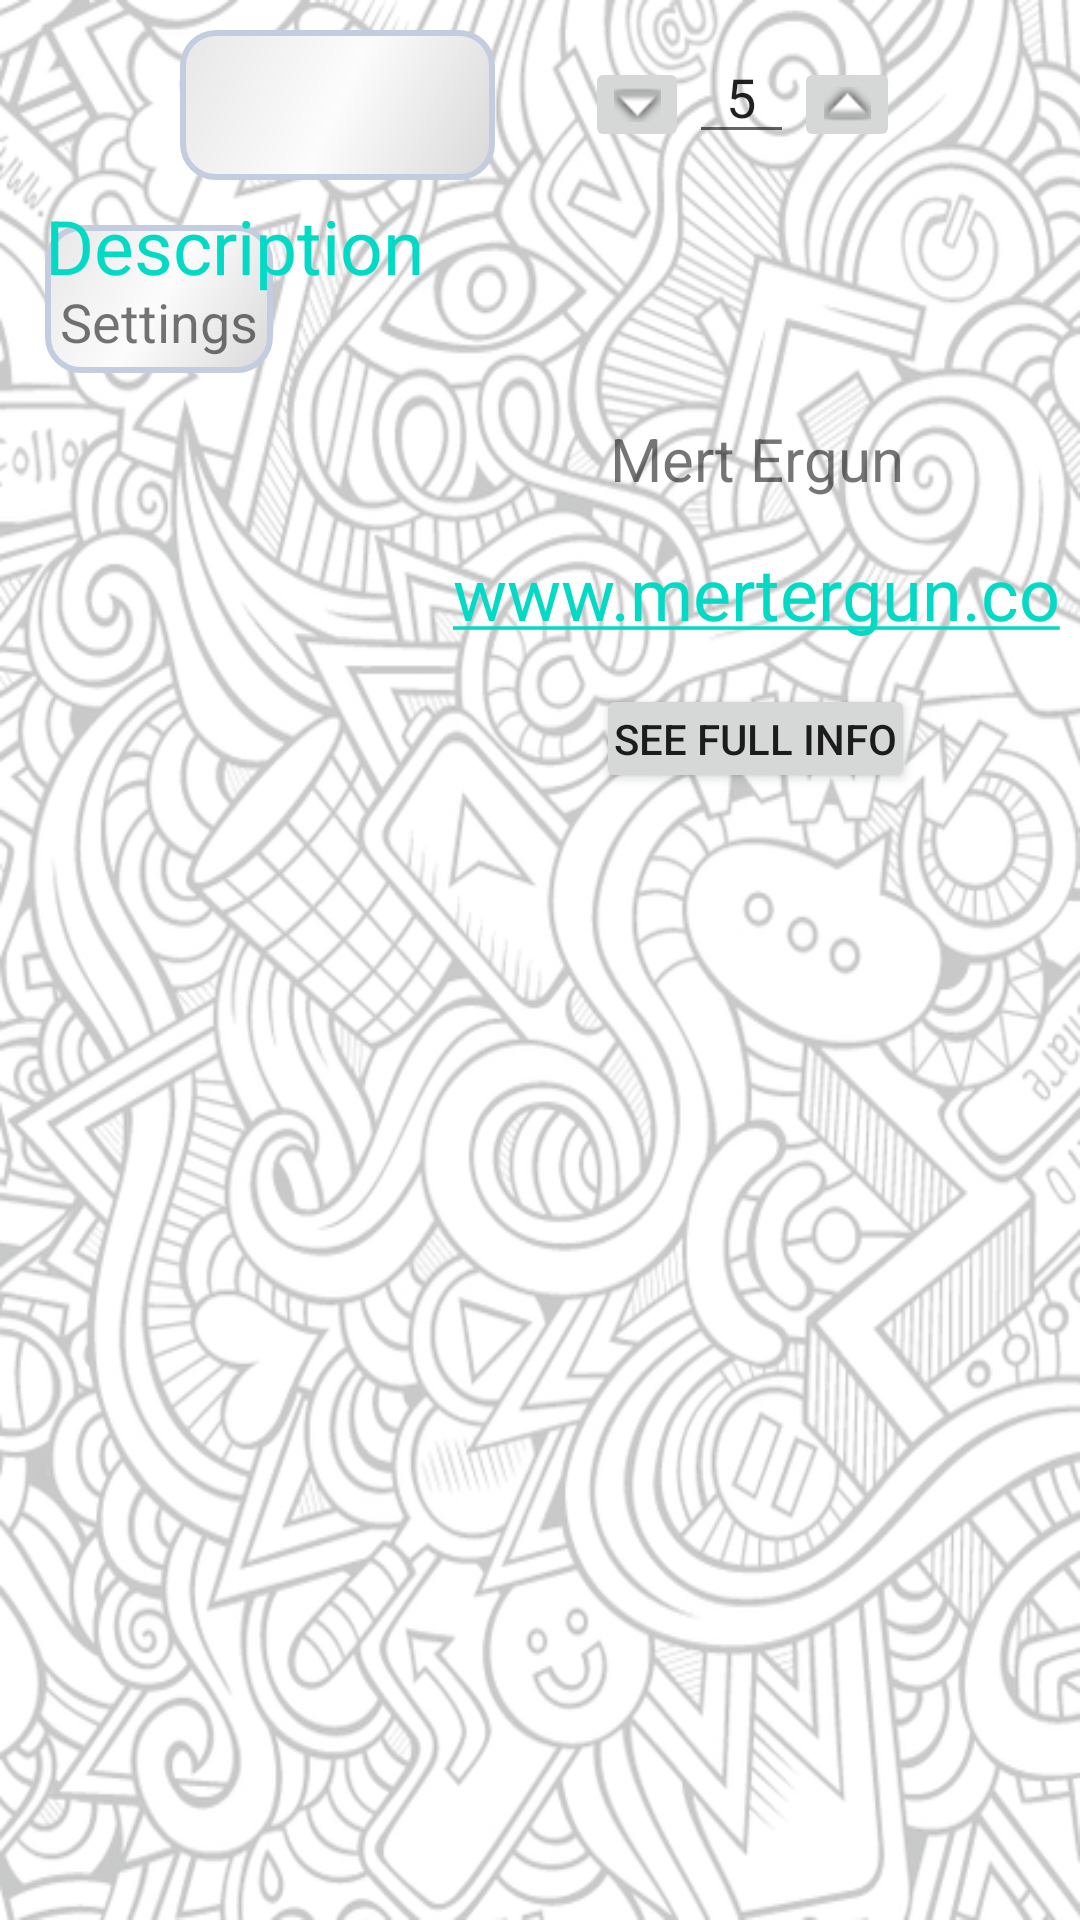

Icon bounding boxes for this 1080×1920 phone screenshot, format bbox=[x1, y1, x2, y2]:
arrow down float: bbox=[585, 57, 689, 152]
arrow up float: bbox=[794, 57, 900, 152]
